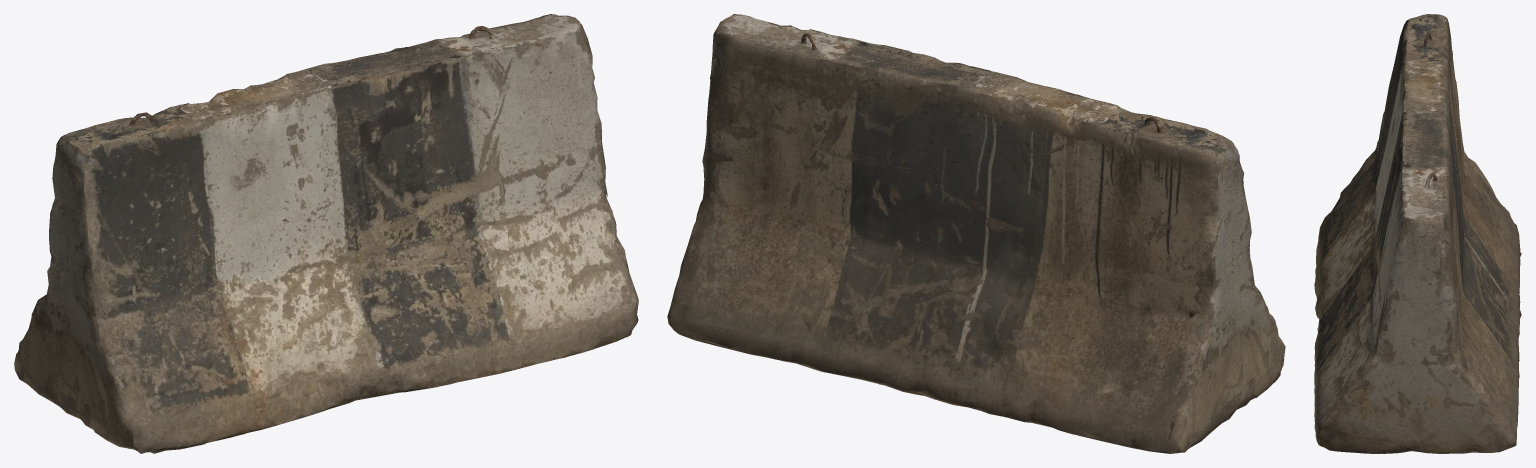
The model's file is concrete_road_barrier.glb.
The picture shows the model from 3 angles, left to right: view 1: azimuth 30°, elevation 25°; view 2: azimuth 150°, elevation 25°; view 3: azimuth 270°, elevation 25°; orthographic projection. The views are drawn at different scales.
Visible parts, largest first — view 1: concrete_road_barrier; view 2: concrete_road_barrier; view 3: concrete_road_barrier.
Part boxes in pixels (x1,y1,x2,y2): concrete_road_barrier: (14,14,638,453); concrete_road_barrier: (667,14,1285,453); concrete_road_barrier: (1314,14,1521,453).
Bounding box in the file's own units: 1.54 × 0.8328 × 0.6362.
Materials: 1 (1 with a texture image).
